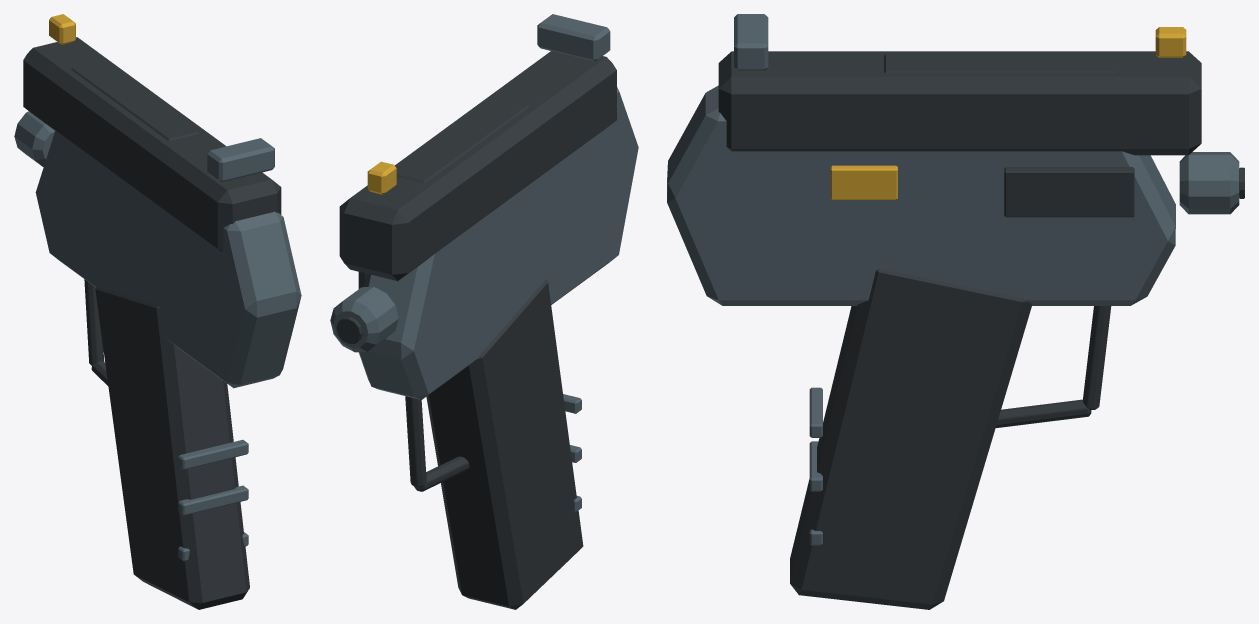
Rendered from weapon_pistol_model.glb.
3 views of the same model, side by side, from view 1: azimuth 30°, elevation 25°; view 2: azimuth 150°, elevation 25°; view 3: azimuth 270°, elevation 25° (orthographic). The views are drawn at different scales.
Visible parts, largest first — view 1: BH_Pistol_01_RenderMesh; view 2: BH_Pistol_01_RenderMesh; view 3: BH_Pistol_01_RenderMesh.
Part boxes in pixels (box(x1,y1,x2,y2)): BH_Pistol_01_RenderMesh: box(14, 14, 301, 609); BH_Pistol_01_RenderMesh: box(330, 14, 638, 609); BH_Pistol_01_RenderMesh: box(667, 14, 1244, 609).
Size of the model in its own units: 0.0505 by 0.3273 by 0.3013.
